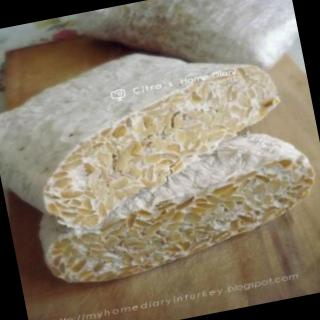Tempe: (1, 22, 320, 300)
